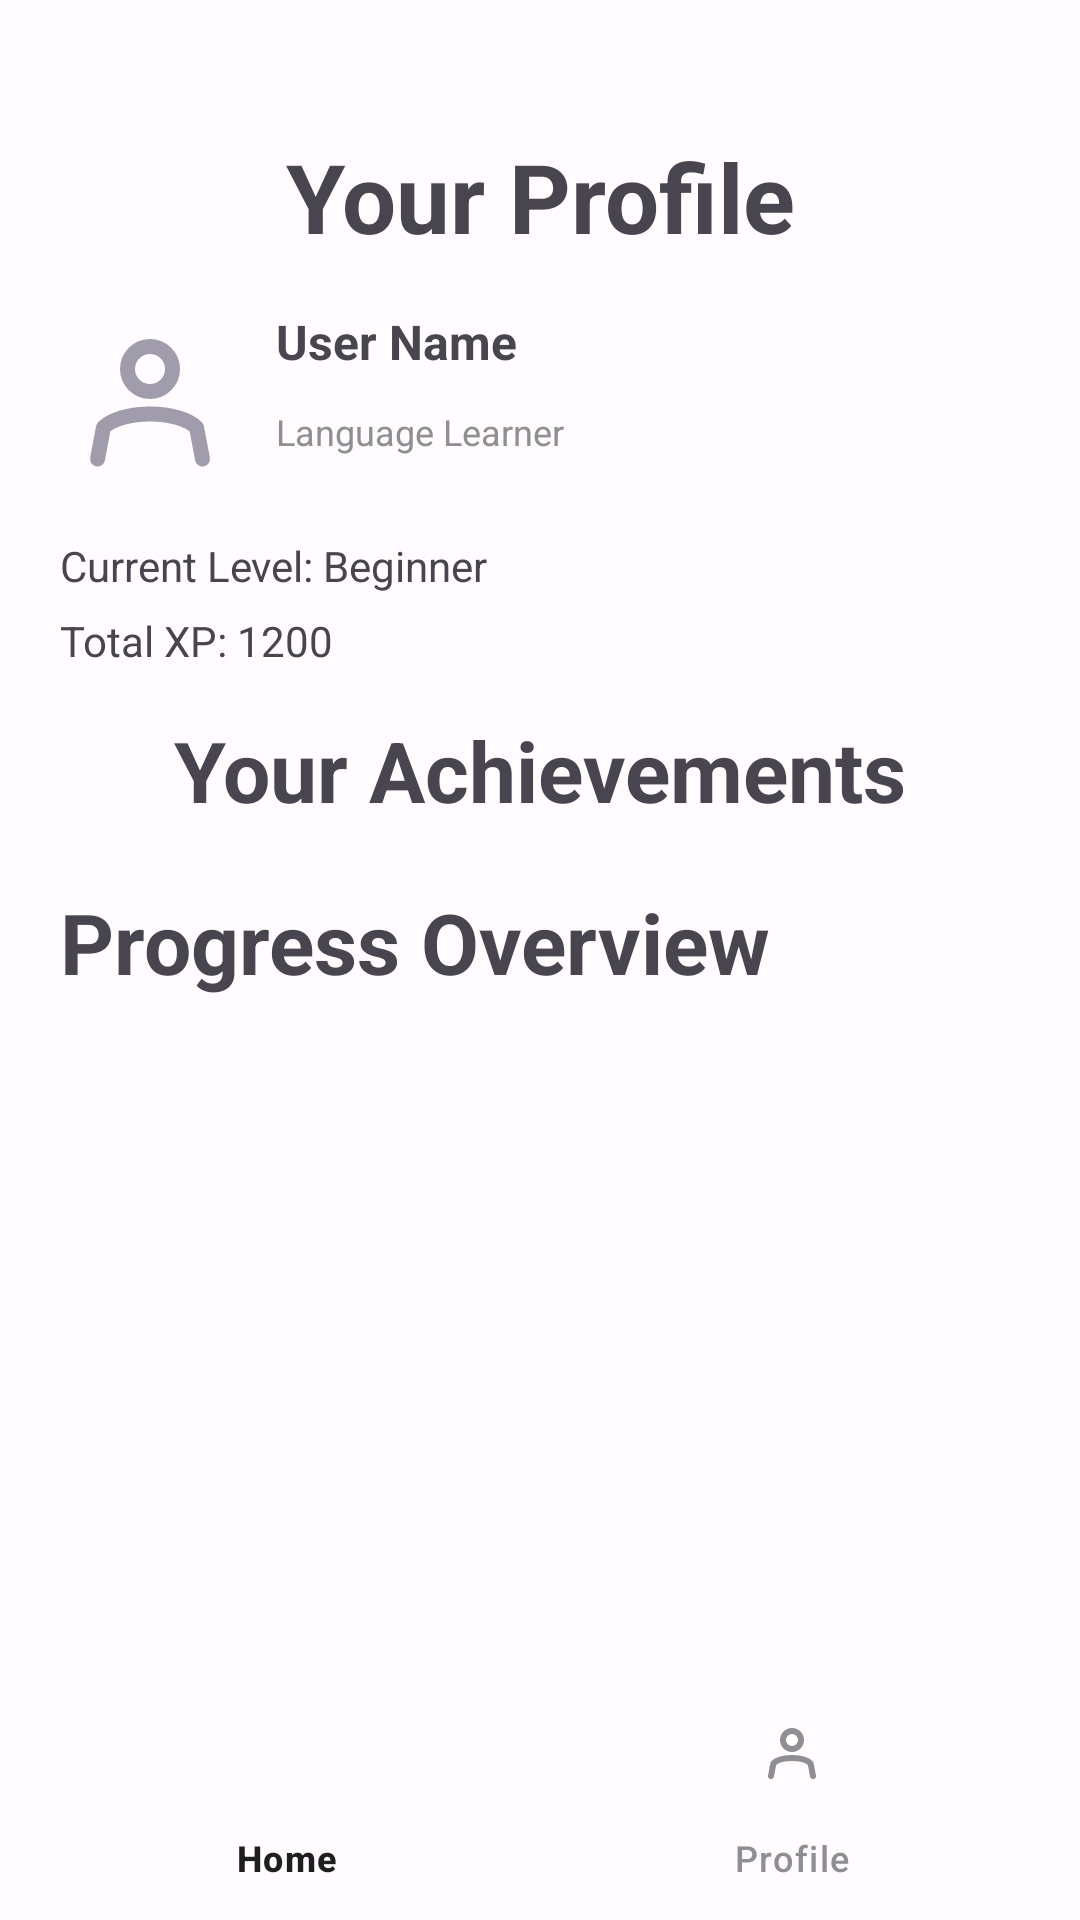

Icons on this 1080 x 1920 Android screen, each with the point to tap as (x,y):
person: (150,403)
